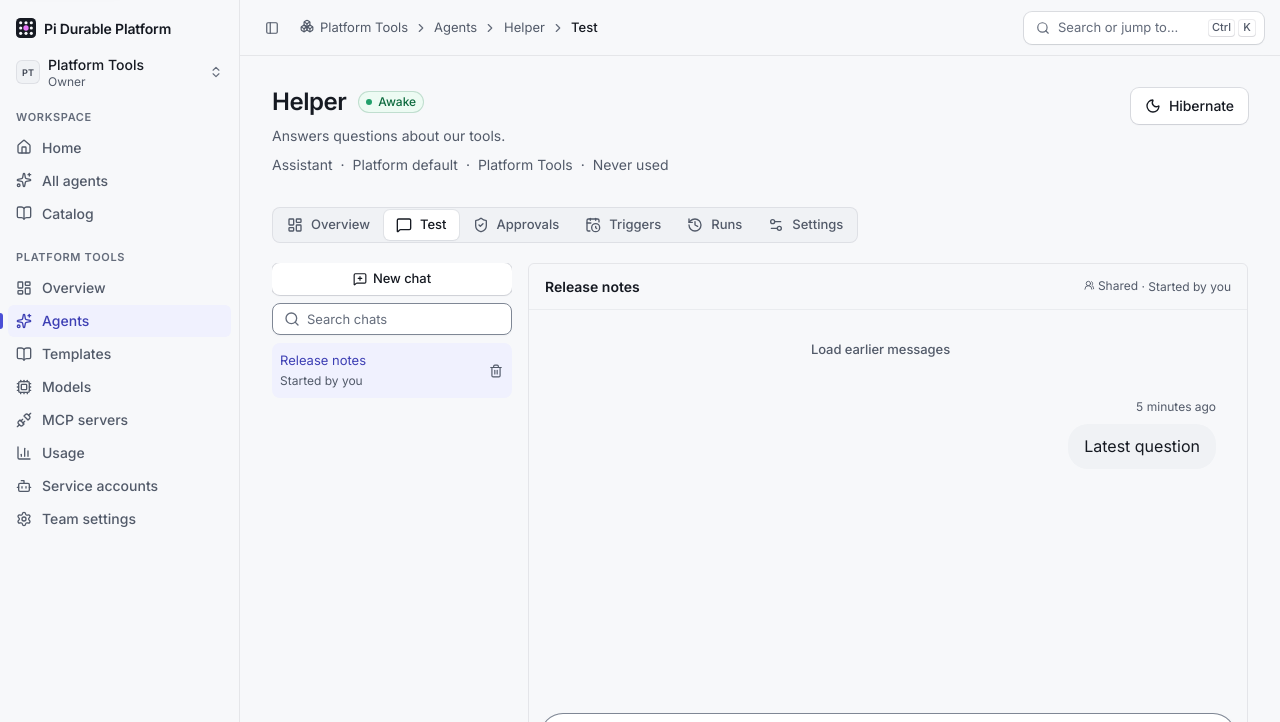
test chat: paging, search and steering › loads earlier messages of a long conversation
Expected: the text "Latest question" is shown, 1084,434 -> 1200,459
Expected: the text "First question" is not shown
What coordinates should you click on to do the following:
click the button "Load earlier messages"
I would click on:
 (880, 350)
Its box is 545,334 -> 1216,366.
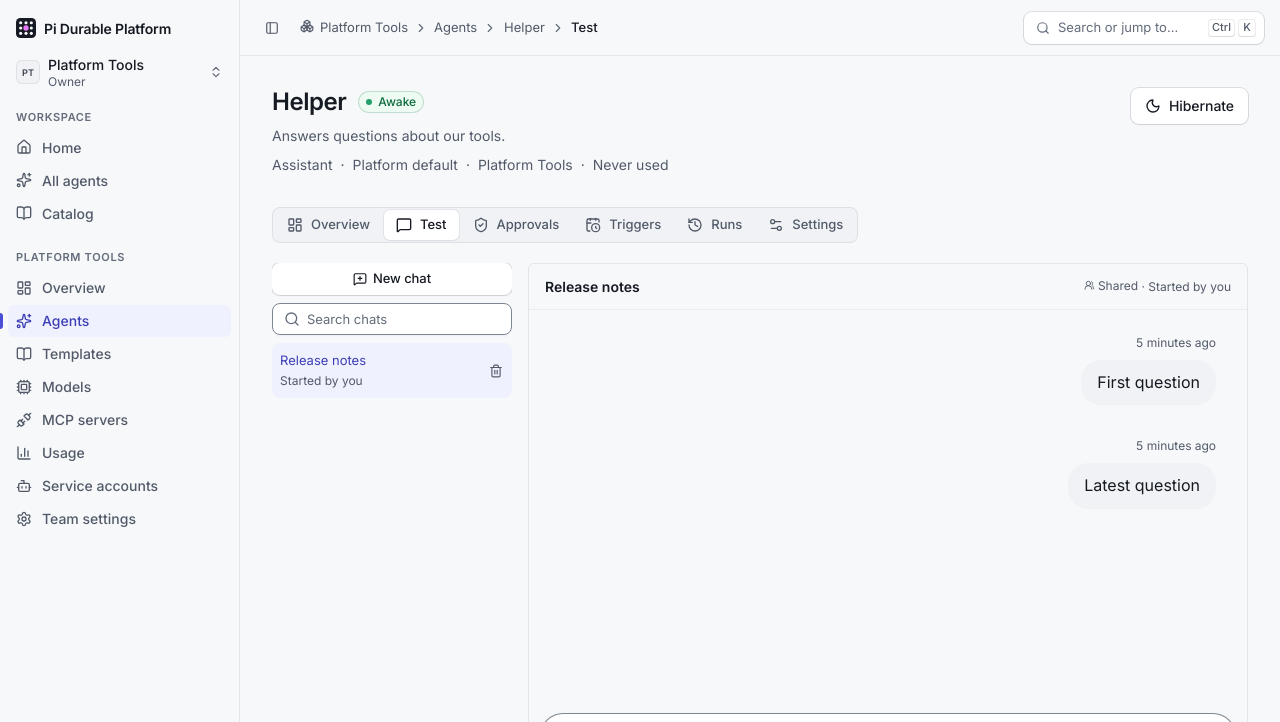
Now the text "First question" is shown, box 1097,370 -> 1200,395
Now the button "Load earlier messages" is gone
